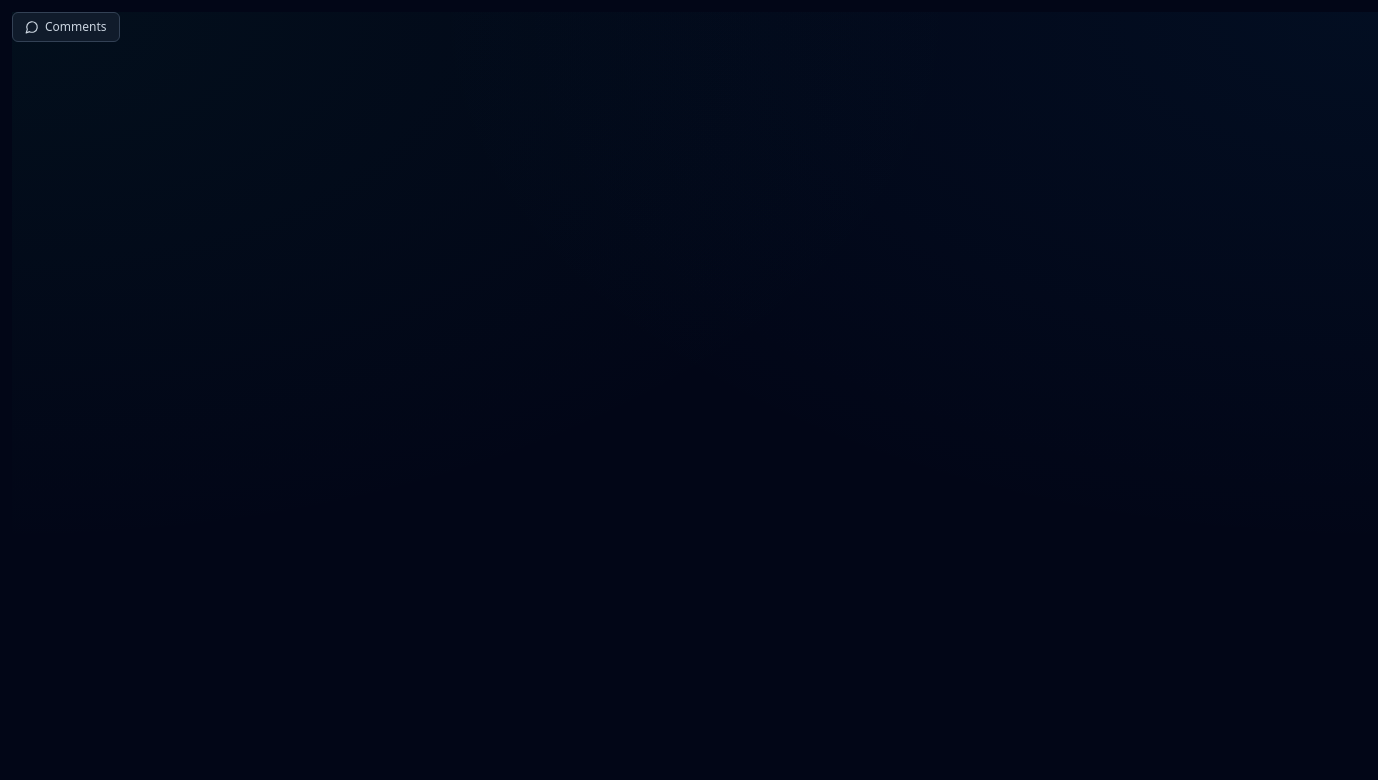
Test: CommentThread — opened state › shows comment content when comments loaded
Click the button titled "Open comments" at (66, 27), box [12,12,120,42]
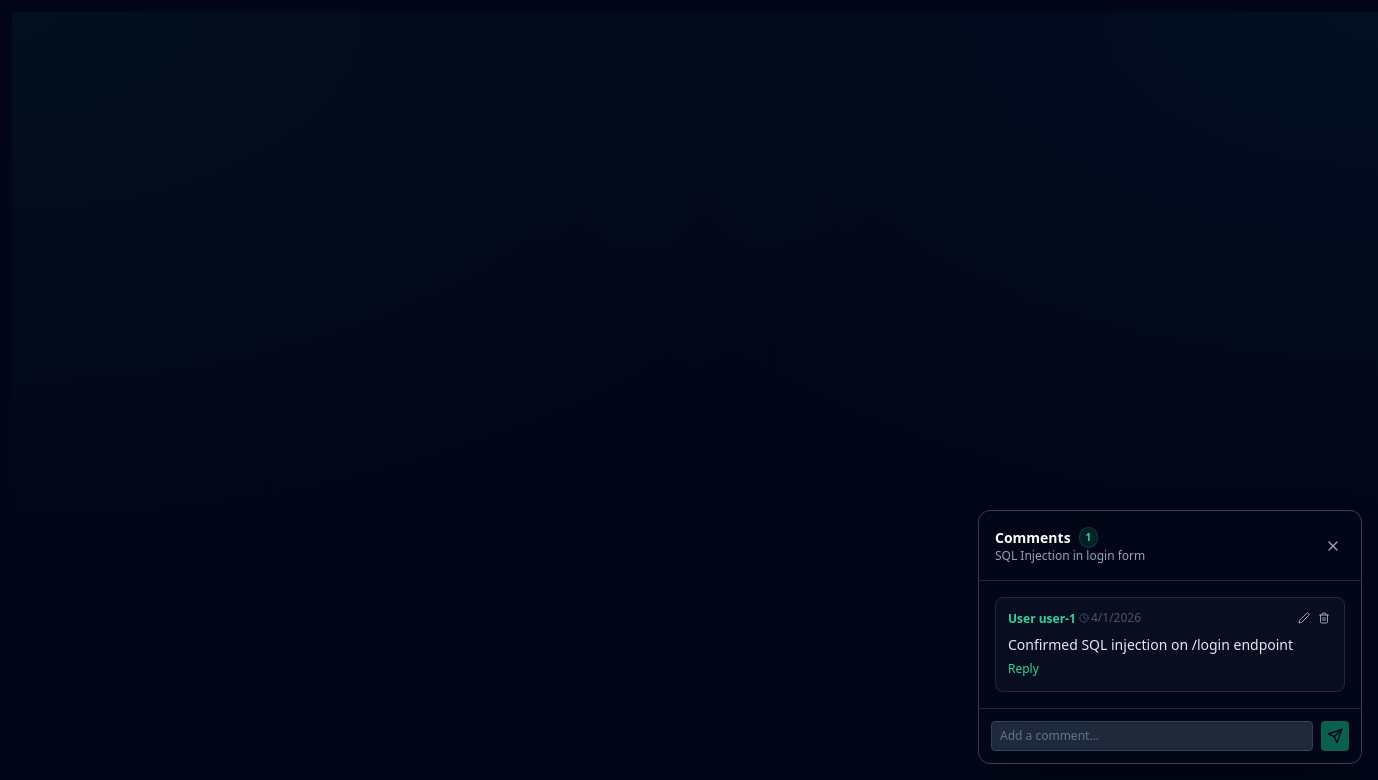
Expected: the text "Confirmed SQL injection on /login endpoint" is shown, [1008,635,1332,655]
